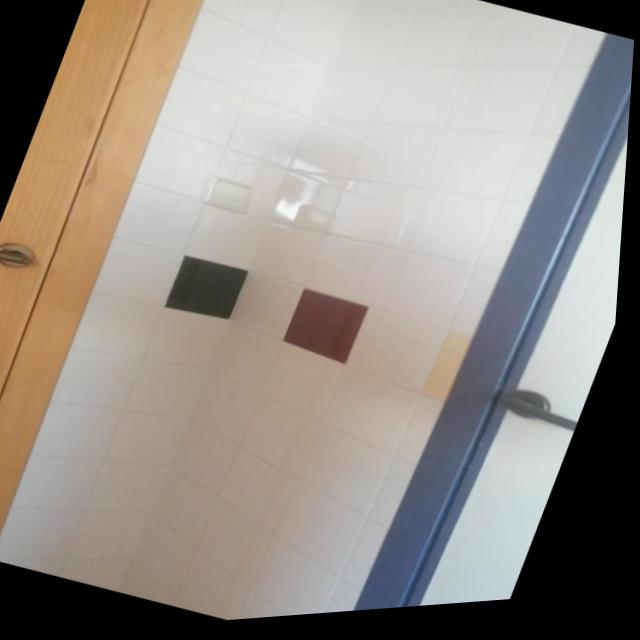door_handle: (492, 390, 591, 448), (0, 240, 44, 275)
